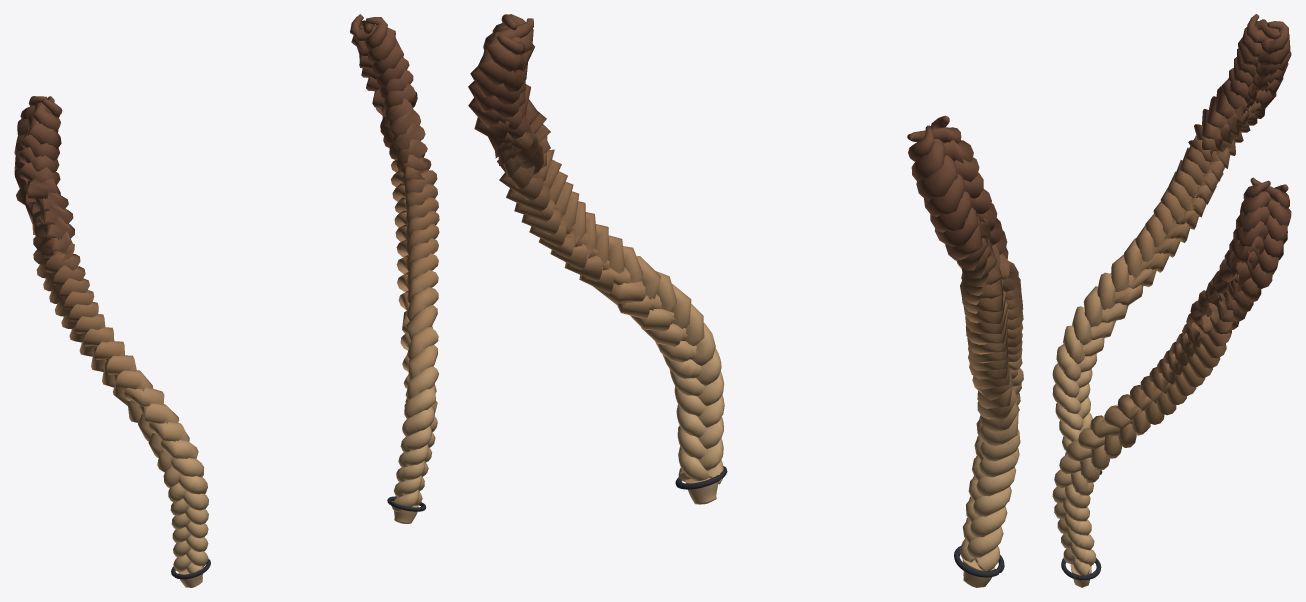
File: twins-none-tank-ombre.glb
3 views of the same model, side by side, from view 1: azimuth 30°, elevation 25°; view 2: azimuth 150°, elevation 25°; view 3: azimuth 270°, elevation 25° (orthographic). The views are drawn at different scales.
Visible parts, largest first — view 1: 226 hairLengths / Hair / chestnut226; view 2: 226 hairLengths / Hair / chestnut226, 226 hairLengths / Hair / ties226; view 3: 226 hairLengths / Hair / chestnut226, 226 hairLengths / Hair / ties226.
Part boxes in pixels (box(x1,y1,x2,y2)): 226 hairLengths / Hair / chestnut226: box(14, 14, 439, 587); 226 hairLengths / Hair / chestnut226: box(468, 14, 1023, 587); 226 hairLengths / Hair / ties226: box(675, 466, 1004, 577); 226 hairLengths / Hair / chestnut226: box(1052, 14, 1291, 587); 226 hairLengths / Hair / ties226: box(1061, 470, 1102, 580).
Bounding box in the file's own units: 0.8713 × 0.9289 × 0.4504.
2 materials, 1 textured.
